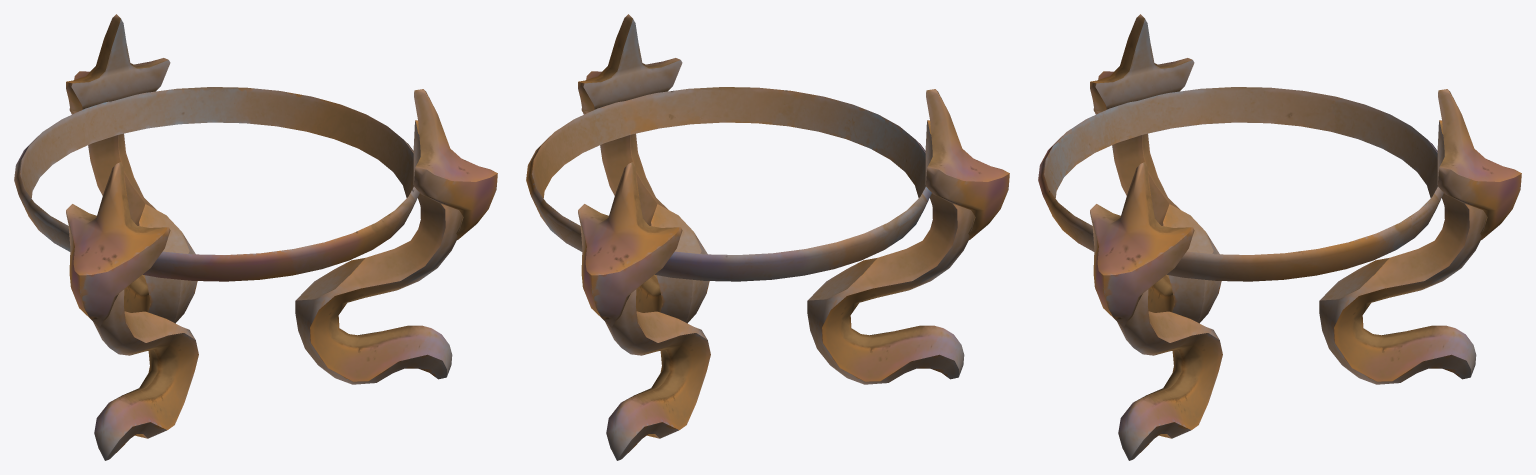
The model's file is SM_Potion_Props_Stand_03.fbx.
3 views of the same model, side by side, from view 1: azimuth 30°, elevation 25°; view 2: azimuth 150°, elevation 25°; view 3: azimuth 270°, elevation 25° (orthographic).
Visible parts, largest first — view 1: SM_Potion_Props_Stand_03_LOD0; view 2: SM_Potion_Props_Stand_03_LOD0; view 3: SM_Potion_Props_Stand_03_LOD0.
Part boxes in pixels (left/top/right/bottom): SM_Potion_Props_Stand_03_LOD0: left=14, top=14, right=497, bottom=460; SM_Potion_Props_Stand_03_LOD0: left=526, top=14, right=1009, bottom=460; SM_Potion_Props_Stand_03_LOD0: left=1038, top=14, right=1521, bottom=460.
Size of what is drawn, in the model's own units: 25.9 by 17.29 by 25.93.
